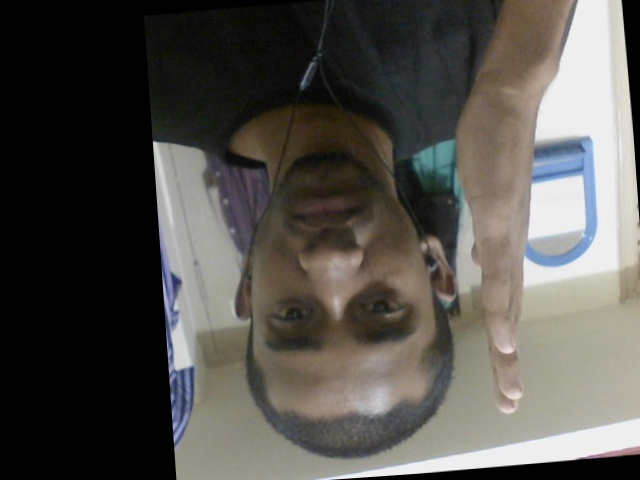hand: (452, 90, 530, 417)
